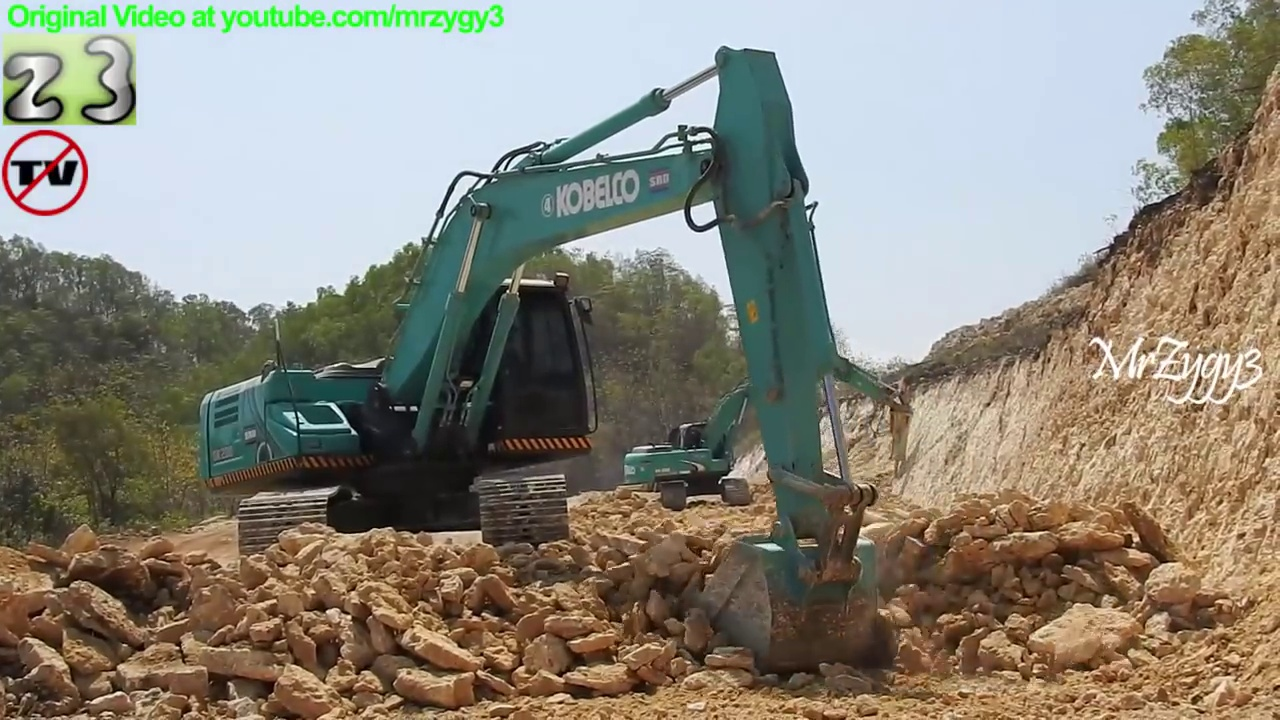excavator: (193, 41, 889, 681), (617, 343, 917, 510)
